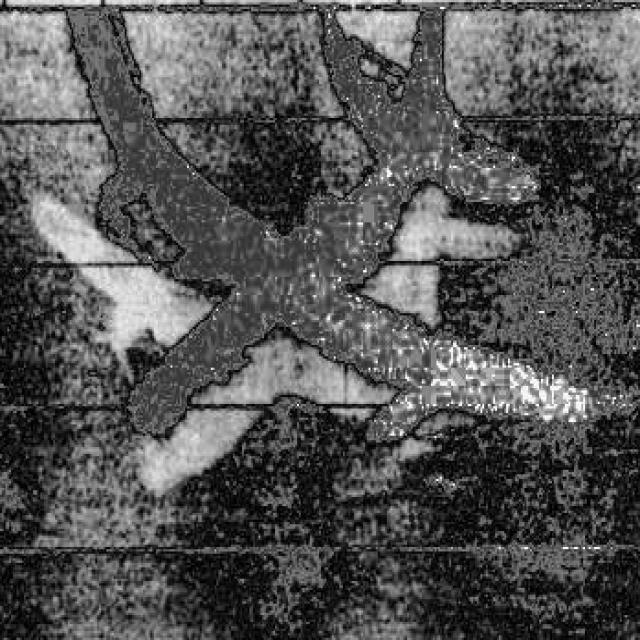plane: (51, 7, 600, 490)
